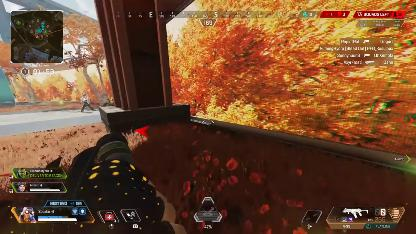Target: (79, 92, 95, 112)
